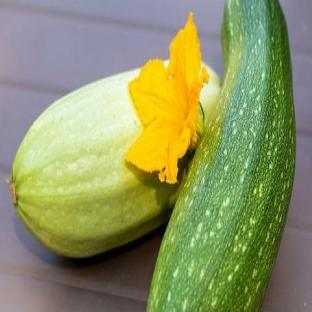Zucchini: (11, 70, 177, 256)
